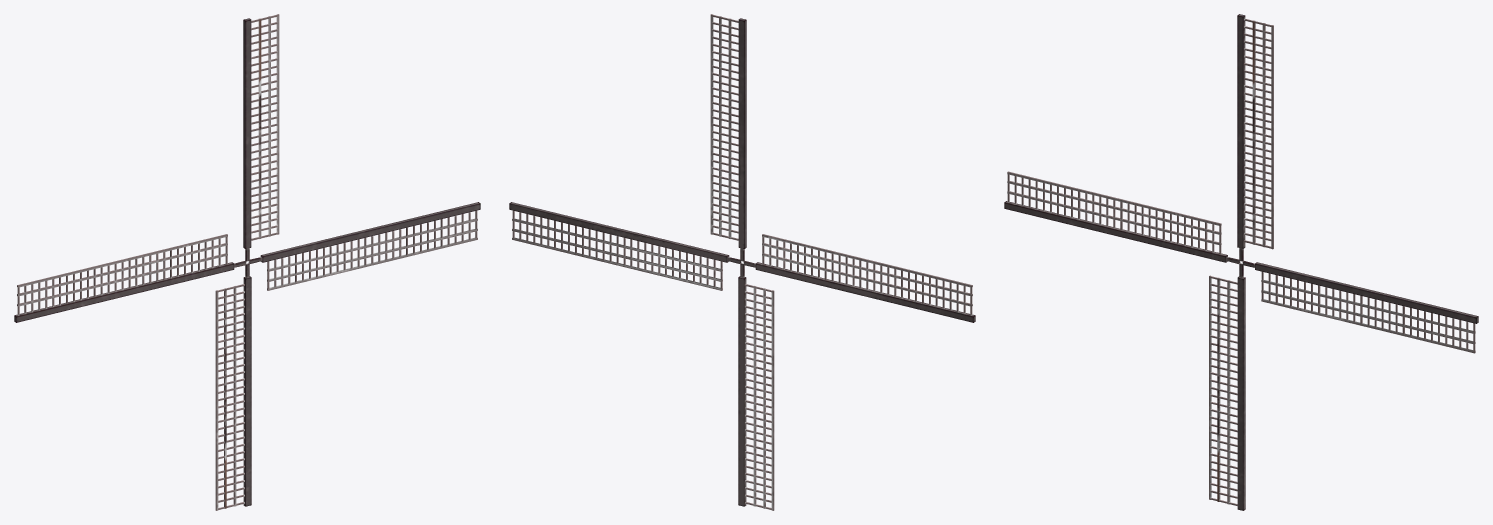
The model's file is WindmillPaddles.fbx.
The picture shows the model from 3 angles, left to right: view 1: azimuth 30°, elevation 25°; view 2: azimuth 150°, elevation 25°; view 3: azimuth 330°, elevation 25°; orthographic projection.
Parts seen in each view (by area): view 1: WindmillPaddles; view 2: WindmillPaddles; view 3: WindmillPaddles.
Part boxes in pixels (left/top/right/bottom): WindmillPaddles: left=14, top=14, right=480, bottom=510; WindmillPaddles: left=509, top=14, right=975, bottom=510; WindmillPaddles: left=1004, top=14, right=1478, bottom=510.
Bounding box in the file's own units: 32.5 × 32.49 × 0.2386.
